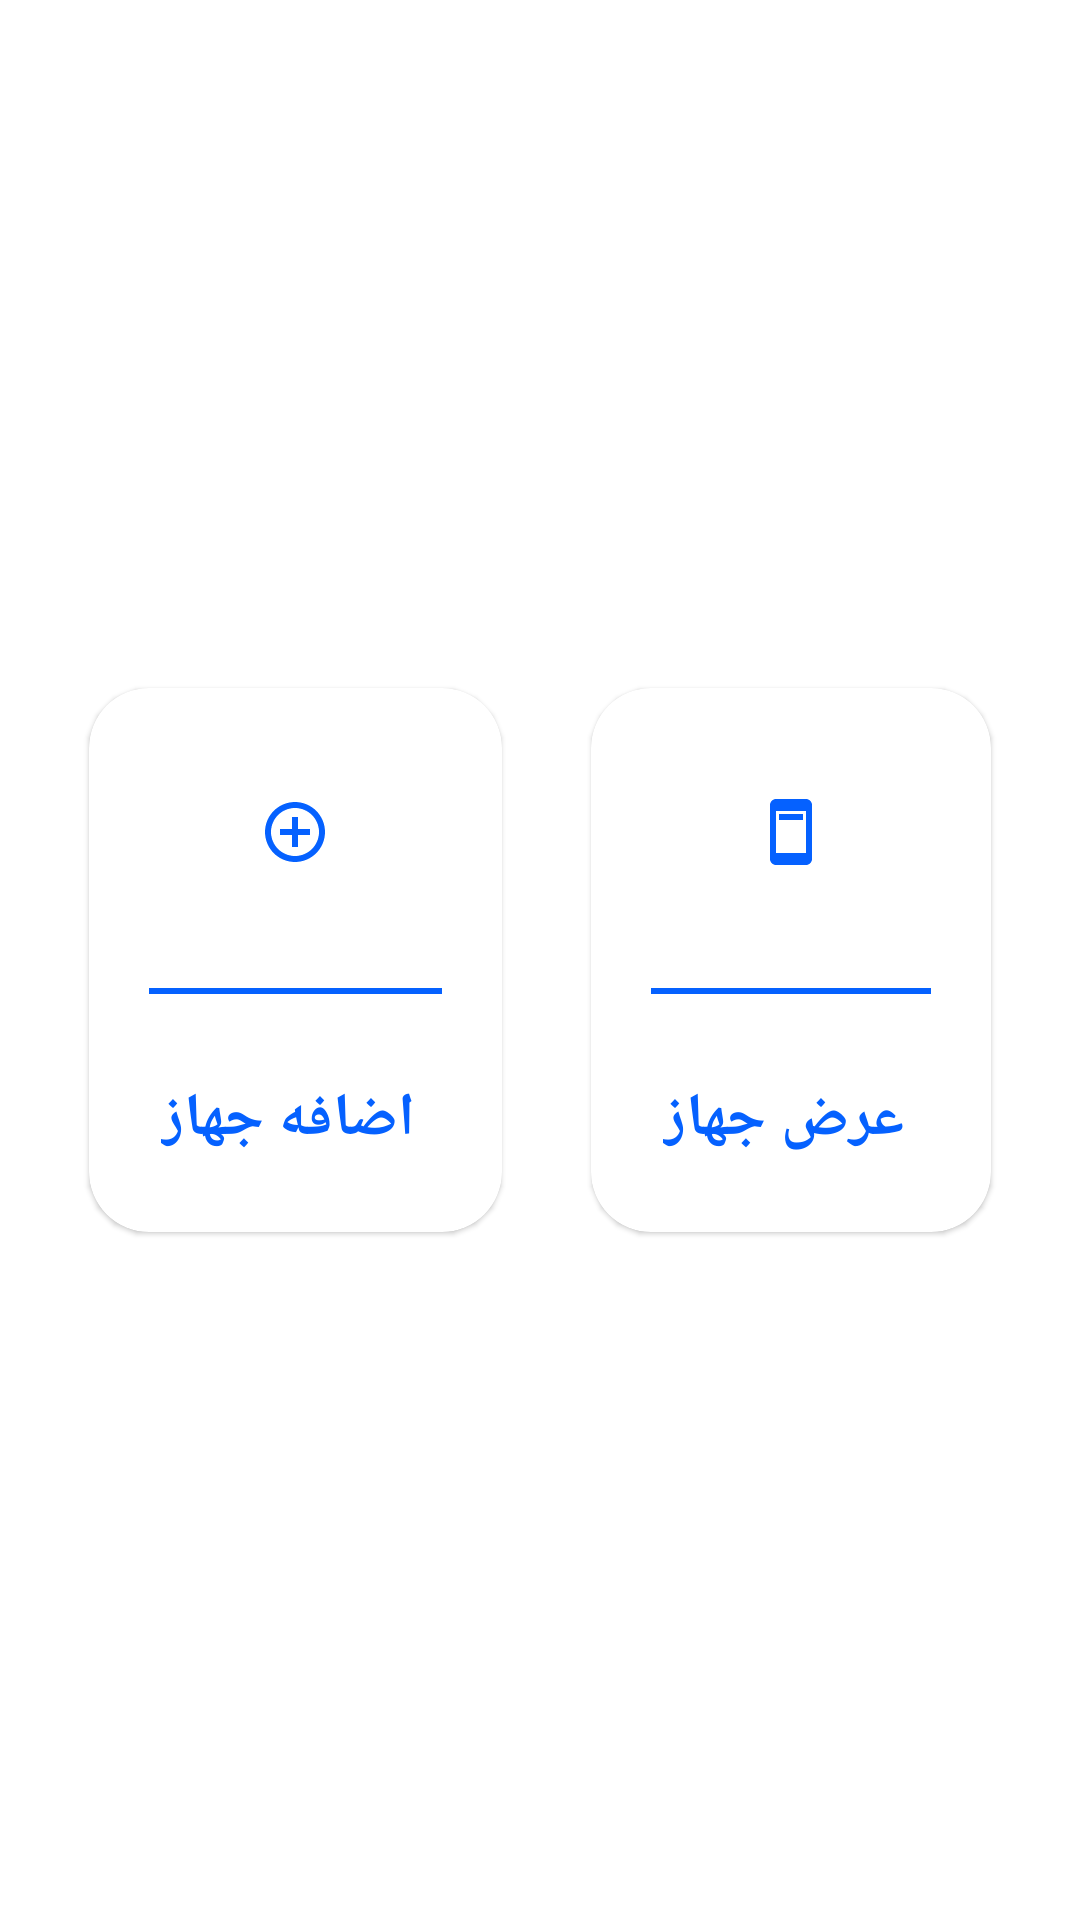

Icon bounding boxes for this 1080px×1920px phone screenshot, format (x1, y1, x2, y2):
add circle: (265, 802, 325, 862)
show device: (770, 799, 812, 865)
